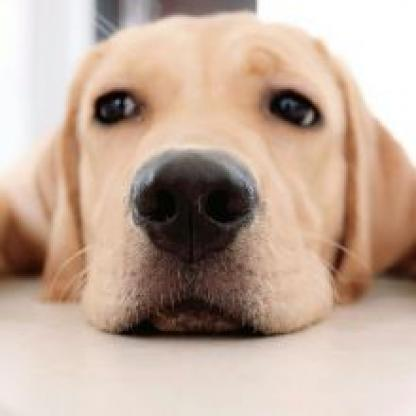Labarador Retriever: (0, 13, 416, 340)
